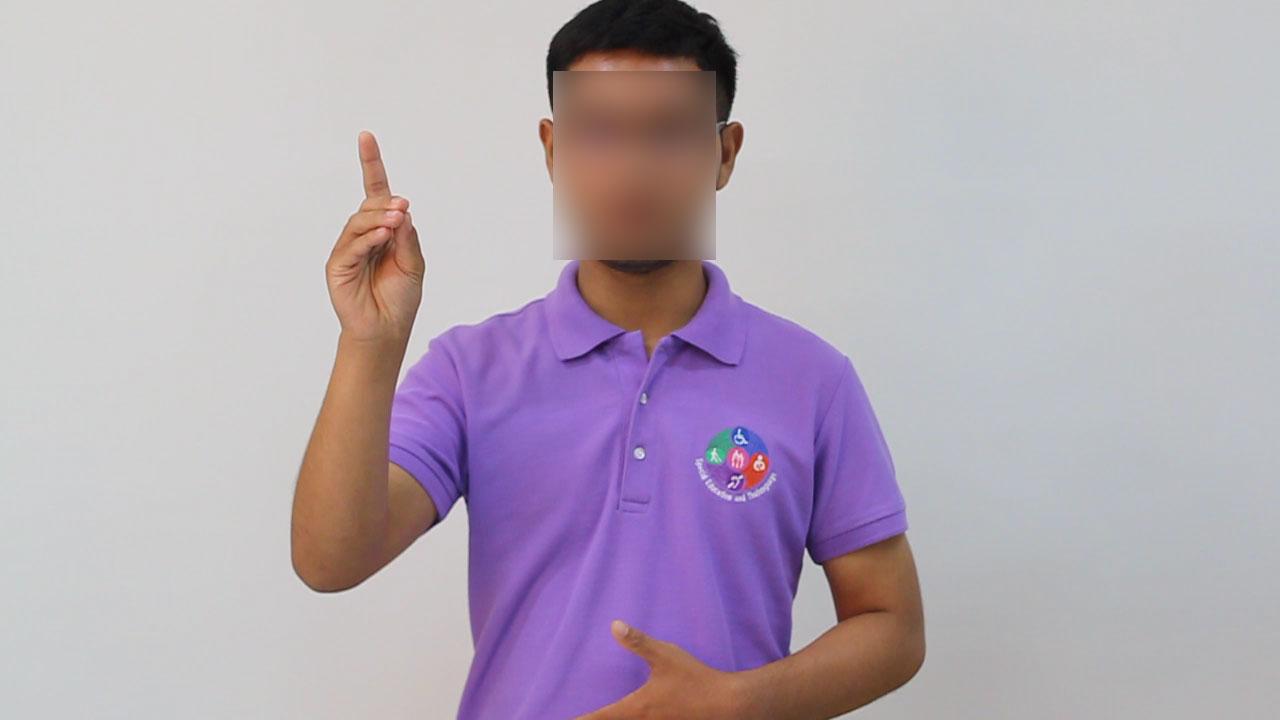dor: (315, 125, 432, 363)
